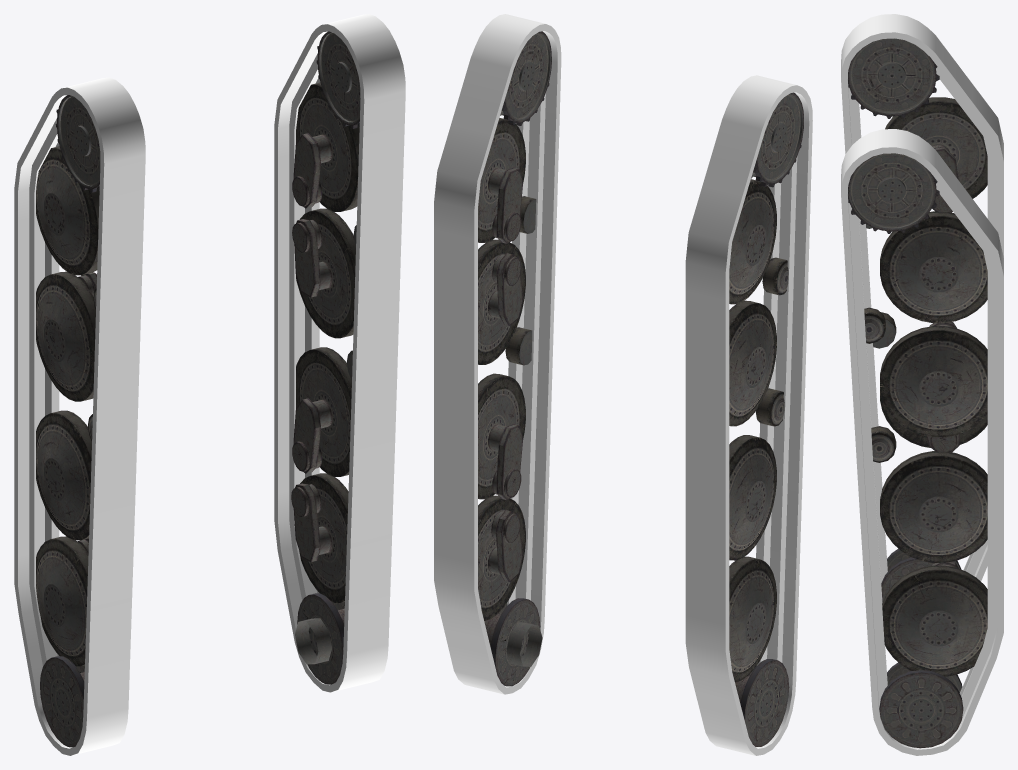
File: Chassis.glb
3 views of the same model, side by side, from view 1: azimuth 30°, elevation 25°; view 2: azimuth 150°, elevation 25°; view 3: azimuth 270°, elevation 25° (orthographic). The views are drawn at different scales.
Visible parts, largest first — view 1: set_3_group_0, set_2_group_0, set_0_group_0, set_1_group_0; view 2: set_3_group_0, set_2_group_0, set_0_group_0, set_1_group_0; view 3: set_0_group_0, set_2_group_0, set_1_group_0, set_3_group_0.
Boxes of the visible parts, x1=… form: set_3_group_0: x1=14, y1=77, x2=145, y2=755; set_2_group_0: x1=274, y1=14, x2=405, y2=692; set_0_group_0: x1=291, y1=31, x2=360, y2=684; set_1_group_0: x1=36, y1=95, x2=100, y2=747; set_3_group_0: x1=685, y1=75, x2=812, y2=755; set_2_group_0: x1=434, y1=14, x2=561, y2=694; set_0_group_0: x1=478, y1=31, x2=551, y2=686; set_1_group_0: x1=729, y1=92, x2=803, y2=746; set_0_group_0: x1=848, y1=153, x2=987, y2=748; set_2_group_0: x1=841, y1=129, x2=1003, y2=755; set_1_group_0: x1=848, y1=38, x2=987, y2=602; set_3_group_0: x1=841, y1=14, x2=1003, y2=582.
Size of the model in its own units: 2.11 by 4.5 by 1.09.
4 materials, 2 textured.
